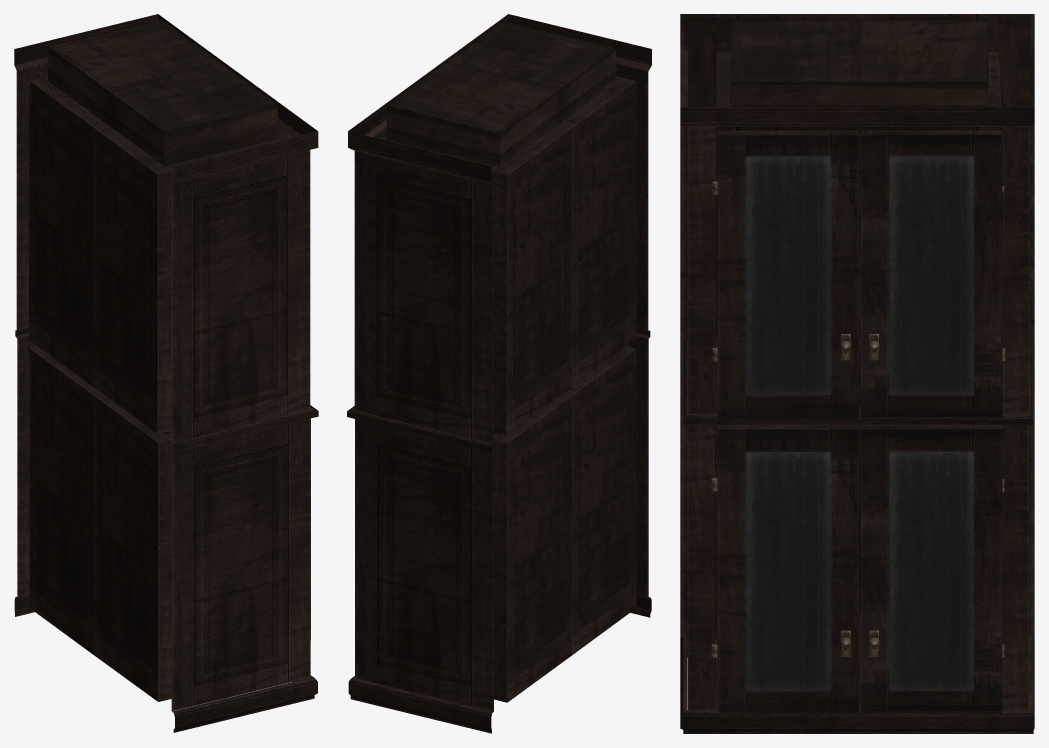
File: tesla_dressing_cupboard_02.dae
The picture shows the model from 3 angles, left to right: view 1: azimuth 30°, elevation 25°; view 2: azimuth 150°, elevation 25°; view 3: azimuth 270°, elevation 25°; orthographic projection. The views are drawn at different scales.
Parts seen in each view (by area): view 1: polySurface187; view 2: polySurface187; view 3: polySurface187, polySurface185, polySurface168, polySurface184, polySurface183, tesla_dressing_cdoor_01_glass3, tesla_dressing_cdoor_01_glass2, tesla_dressing_cdoor_01_glass4, tesla_dressing_cdoor_01_glass5, polySurface186.
Boxes of the visible parts, bbox=[...] form: polySurface187: bbox=[14, 14, 318, 732]; polySurface187: bbox=[347, 14, 651, 733]; polySurface187: bbox=[680, 20, 1034, 733]; polySurface185: bbox=[713, 130, 858, 418]; polySurface168: bbox=[861, 130, 1004, 418]; polySurface184: bbox=[712, 425, 858, 712]; polySurface183: bbox=[861, 425, 1003, 712]; tesla_dressing_cdoor_01_glass3: bbox=[889, 451, 973, 690]; tesla_dressing_cdoor_01_glass2: bbox=[746, 452, 830, 690]; tesla_dressing_cdoor_01_glass4: bbox=[889, 156, 973, 394]; tesla_dressing_cdoor_01_glass5: bbox=[746, 156, 830, 394]; polySurface186: bbox=[680, 14, 1034, 657].
Size of the model in its own units: 227 by 800 by 399.
